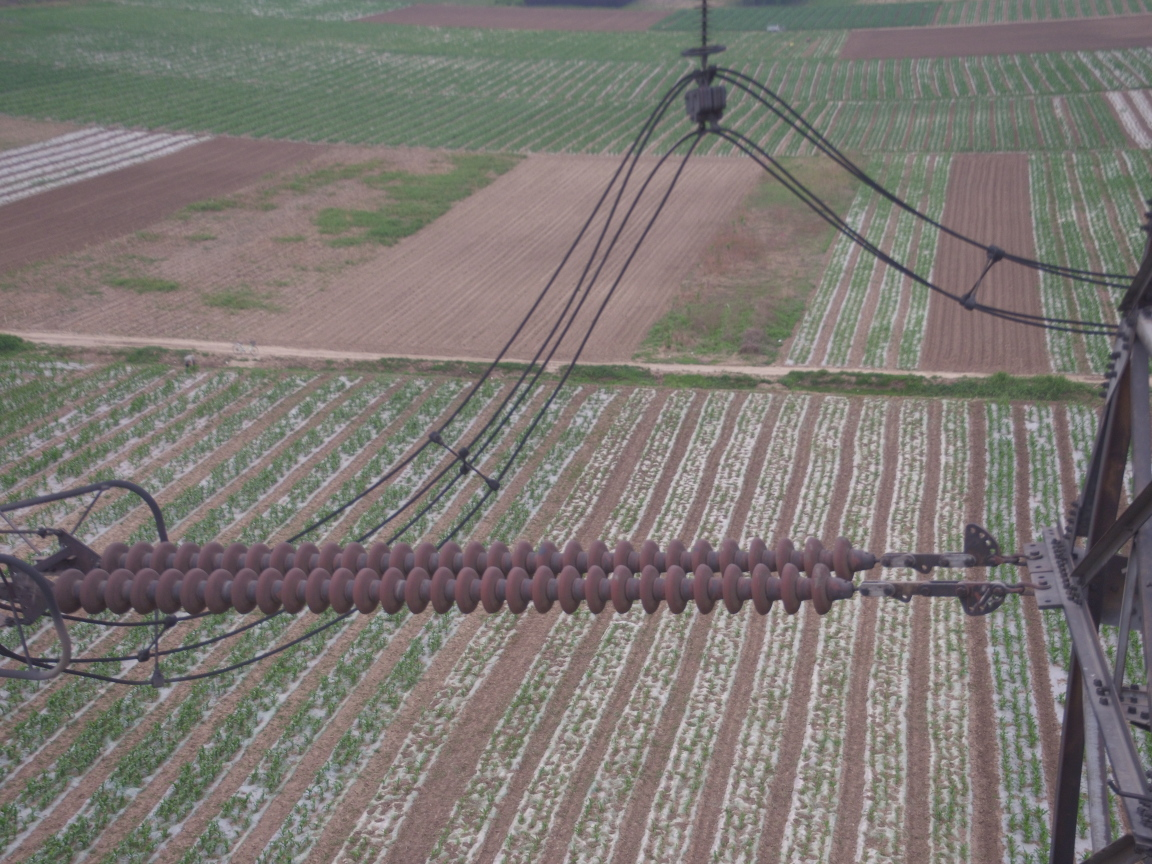insulator: (31, 531, 946, 622)
